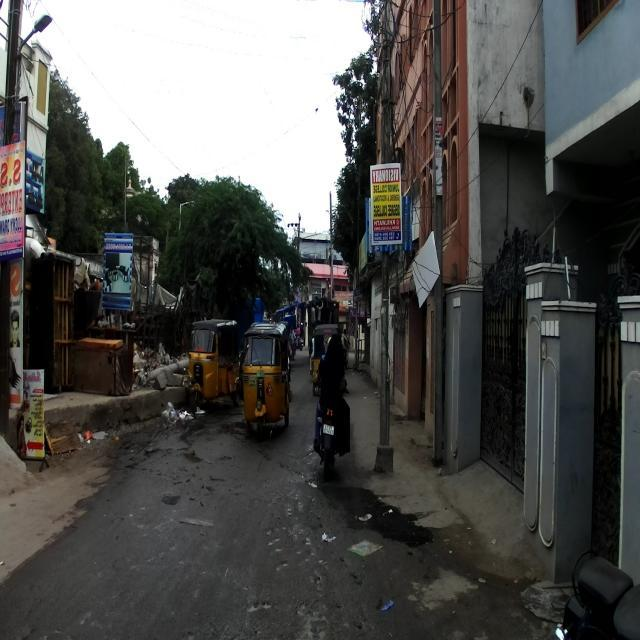pothole: (214, 420, 246, 438), (271, 558, 292, 574), (183, 448, 204, 464), (267, 533, 283, 549), (304, 480, 320, 490), (244, 603, 258, 614), (318, 557, 330, 569), (286, 501, 294, 518), (304, 535, 313, 546), (261, 602, 272, 610)
